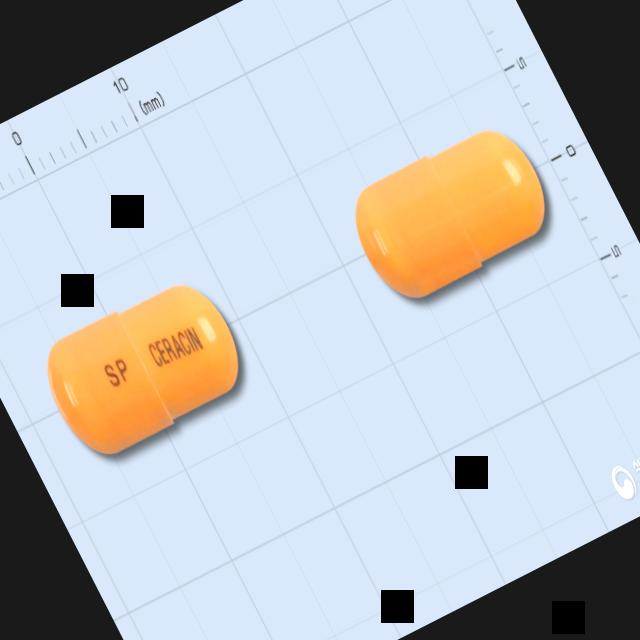Ceracin Cap: (24, 260, 266, 478)
